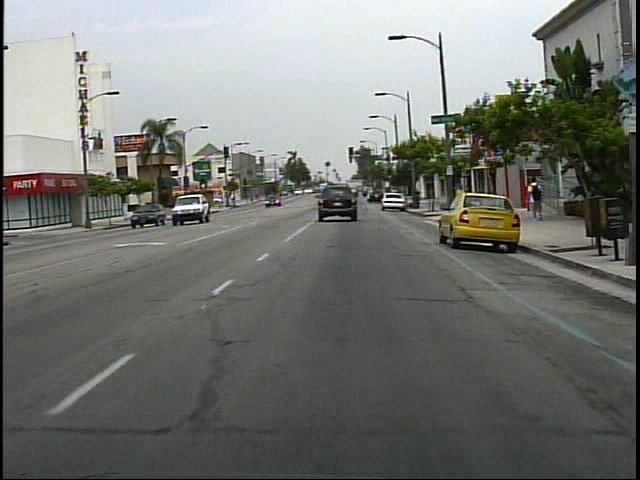person: (521, 171, 549, 225)
